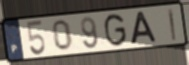0: (51, 18, 75, 53)
5: (25, 19, 46, 56)
9: (79, 16, 99, 50)
A: (130, 10, 159, 46)
G: (104, 12, 129, 48)
I: (167, 7, 178, 43)
